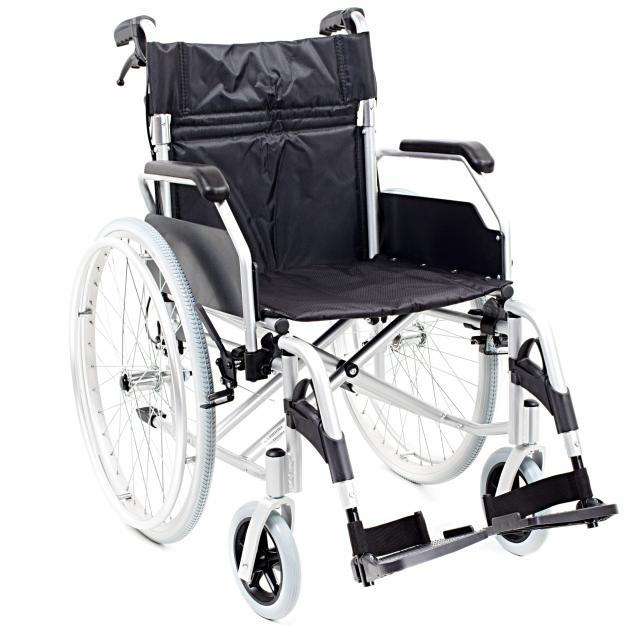wheelchair: (72, 1, 628, 640)
